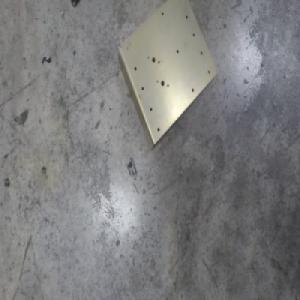MetalSheet: (116, 0, 218, 153)
